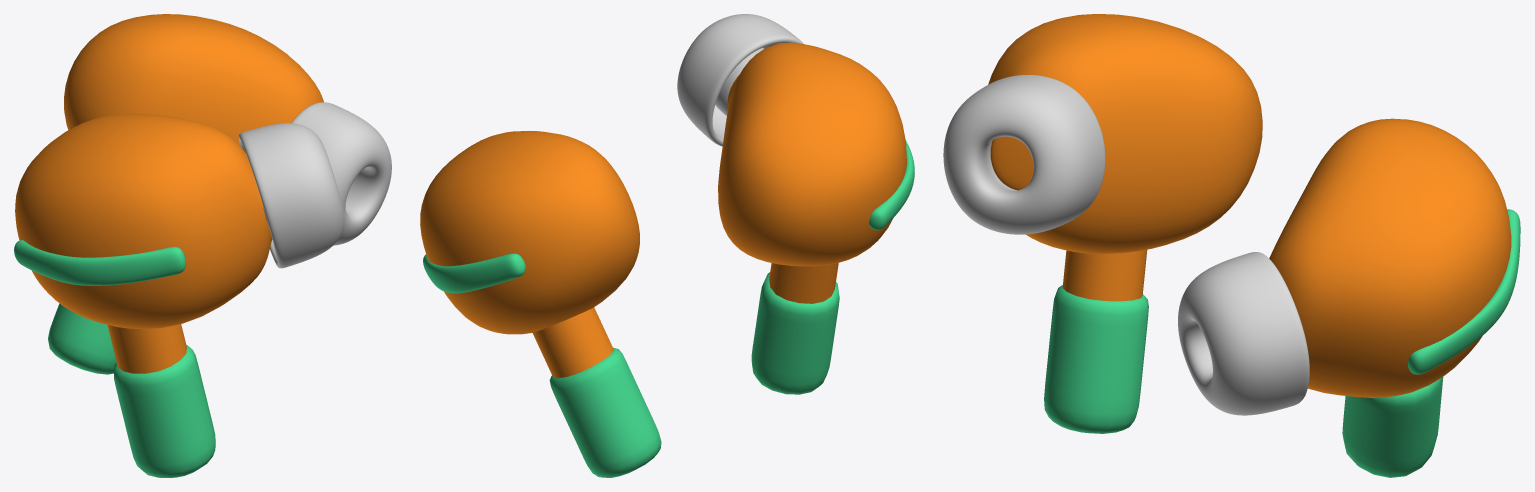
File: earphone-3d-icon-133606859010.glb
3 views of the same model, side by side, from view 1: azimuth 30°, elevation 25°; view 2: azimuth 150°, elevation 25°; view 3: azimuth 270°, elevation 25° (orthographic). The views are drawn at different scales.
Visible parts, largest first — view 1: Body 1, Body 2, Earbud; view 2: Body 1, Body 2, Earbud; view 3: Body 1, Earbud, Body 2.
Boxes of the visible parts, bbox=[...] form: Body 1: bbox=[15, 14, 323, 373]; Body 2: bbox=[14, 240, 215, 477]; Earbud: bbox=[238, 102, 391, 268]; Body 1: bbox=[420, 42, 906, 378]; Body 2: bbox=[423, 140, 914, 477]; Earbud: bbox=[677, 14, 803, 146]; Body 1: bbox=[988, 14, 1511, 397]; Earbud: bbox=[943, 75, 1309, 415]; Body 2: bbox=[1044, 209, 1520, 477].
Bounding box in the file's own units: 3.06 × 2.54 × 3.27.
